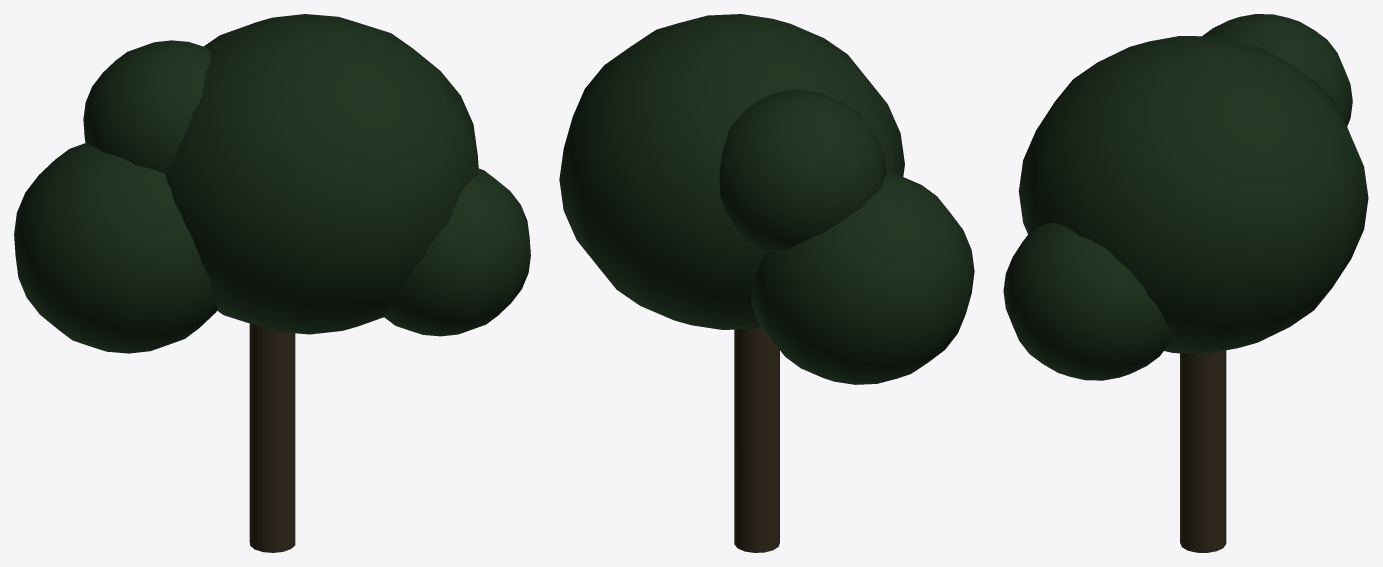
The model's file is tree03.fbx.
3 views of the same model, side by side, from view 1: azimuth 30°, elevation 25°; view 2: azimuth 150°, elevation 25°; view 3: azimuth 270°, elevation 25° (orthographic).
Visible parts, largest first — view 1: bigboem3; view 2: bigboem3; view 3: bigboem3.
Boxes of the visible parts, bbox=[...] form: bigboem3: bbox=[14, 14, 530, 552]; bigboem3: bbox=[559, 14, 974, 552]; bigboem3: bbox=[1003, 14, 1368, 552].
Size of the model in its own units: 5.39 by 6.28 by 4.12.
